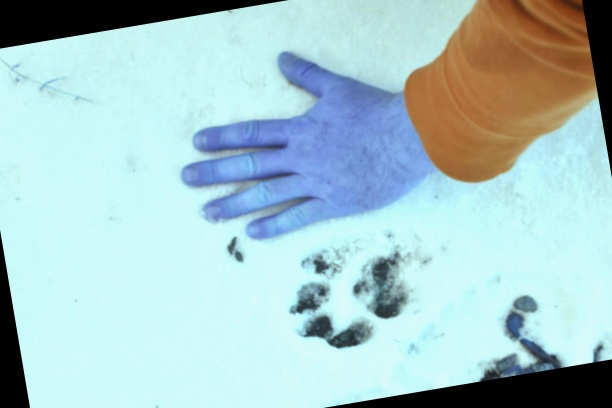loup: (177, 219, 355, 376)
